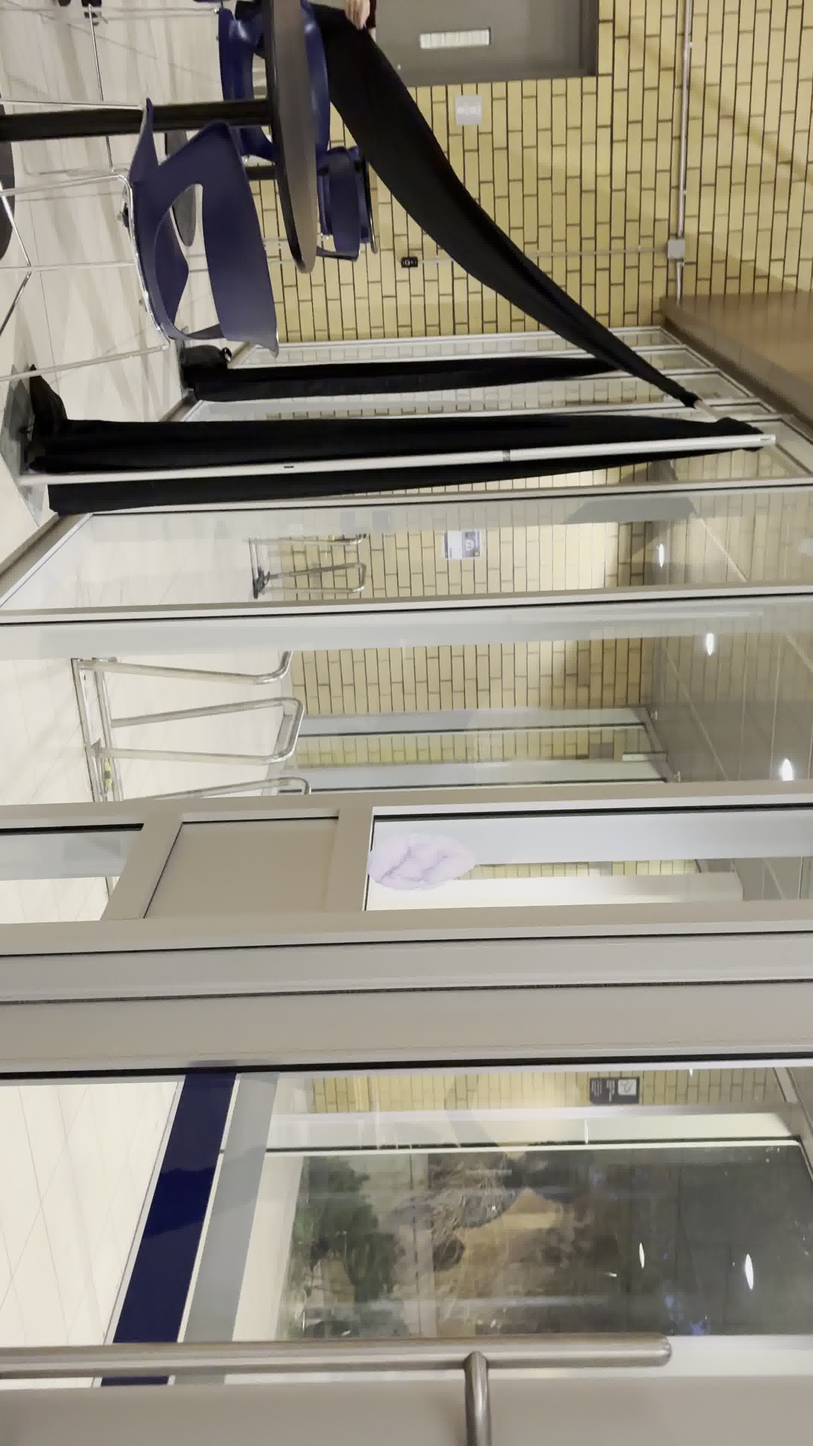Target: (365, 831, 478, 892)
